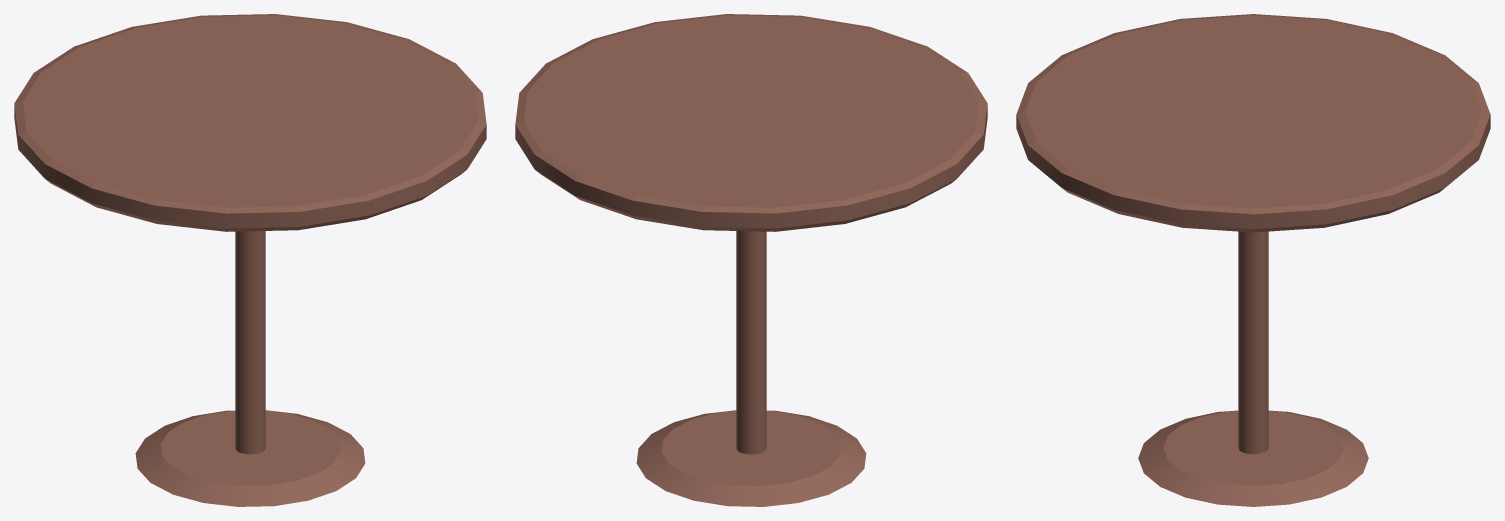
Rendered from SM_Table.fbx.
The picture shows the model from 3 angles, left to right: view 1: azimuth 30°, elevation 25°; view 2: azimuth 150°, elevation 25°; view 3: azimuth 270°, elevation 25°; orthographic projection.
Visible parts, largest first — view 1: table1; view 2: table1; view 3: table1.
Part boxes in pixels (box(x1,y1,x2,y2)): table1: box(14, 14, 486, 506); table1: box(515, 14, 987, 506); table1: box(1016, 14, 1490, 506).
Size of the model in its own units: 121 by 97.87 by 121.
